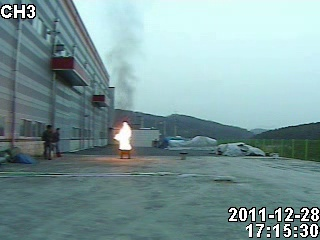fire: (113, 119, 134, 152)
